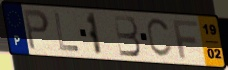1: (85, 11, 104, 58)
B: (112, 14, 143, 58)
C: (145, 17, 174, 59)
F: (171, 19, 199, 61)
L: (52, 12, 81, 53)
P: (22, 8, 51, 53)
